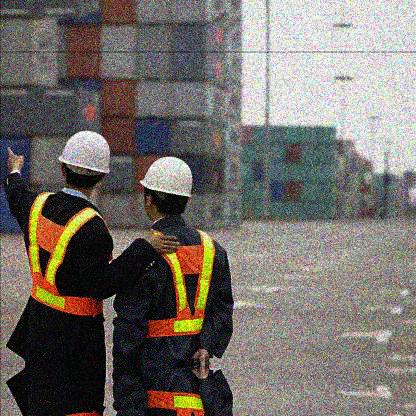helmet: (140, 154, 194, 224), (58, 131, 111, 202)
